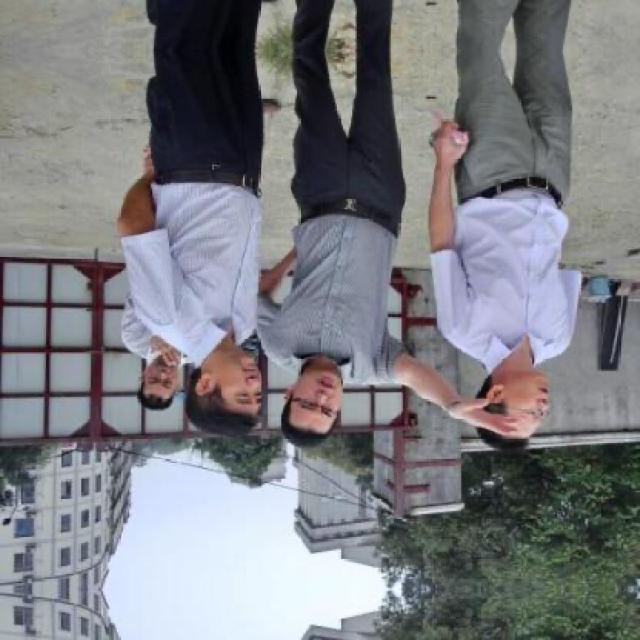con casco: (180, 352, 266, 435)
sin casco: (462, 352, 587, 462), (178, 372, 280, 449), (286, 371, 366, 445), (143, 360, 198, 412)
